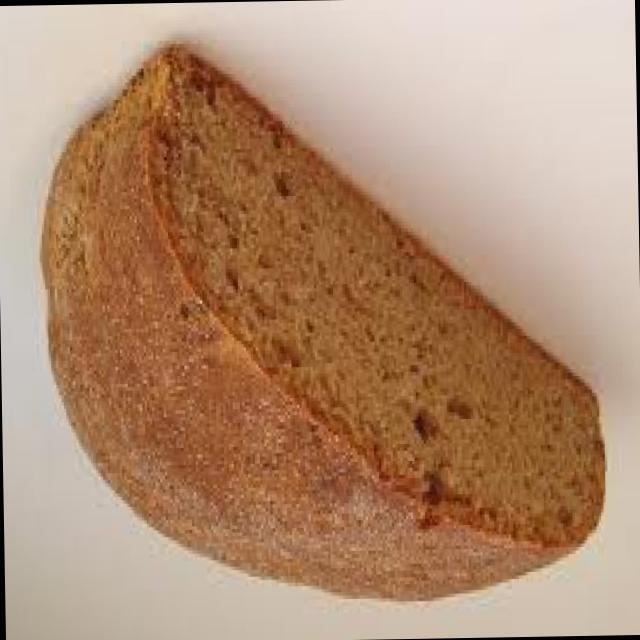Bread: (24, 33, 622, 628)
